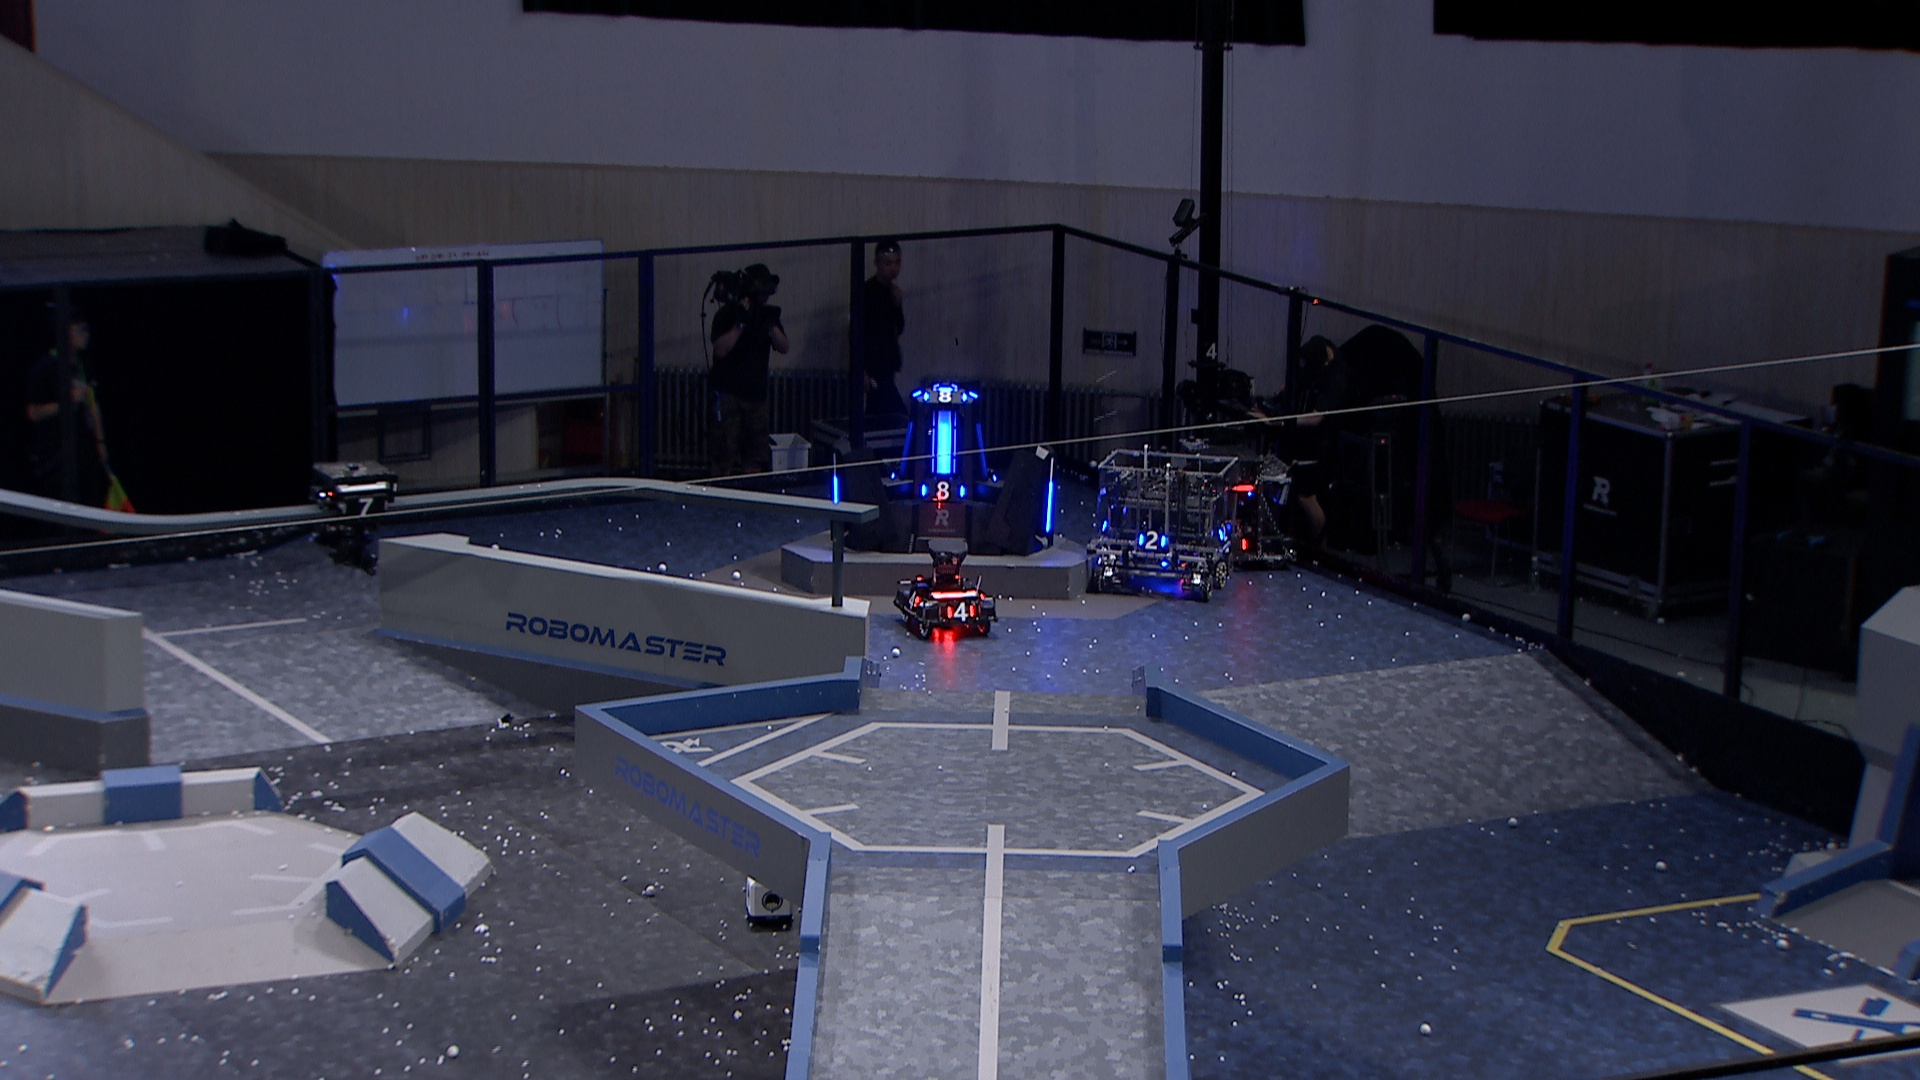armor: (335, 495, 396, 520), (897, 422, 916, 480), (918, 481, 967, 502), (936, 418, 953, 477), (975, 423, 992, 475), (923, 386, 968, 405), (1135, 527, 1168, 553), (945, 603, 978, 622), (1044, 481, 1055, 534), (1216, 522, 1236, 545), (831, 473, 844, 506), (906, 589, 923, 612)
base: (829, 382, 1058, 556)
car: (1083, 450, 1242, 600), (1174, 436, 1296, 568), (889, 537, 1001, 638)
watcher: (309, 458, 400, 578)
